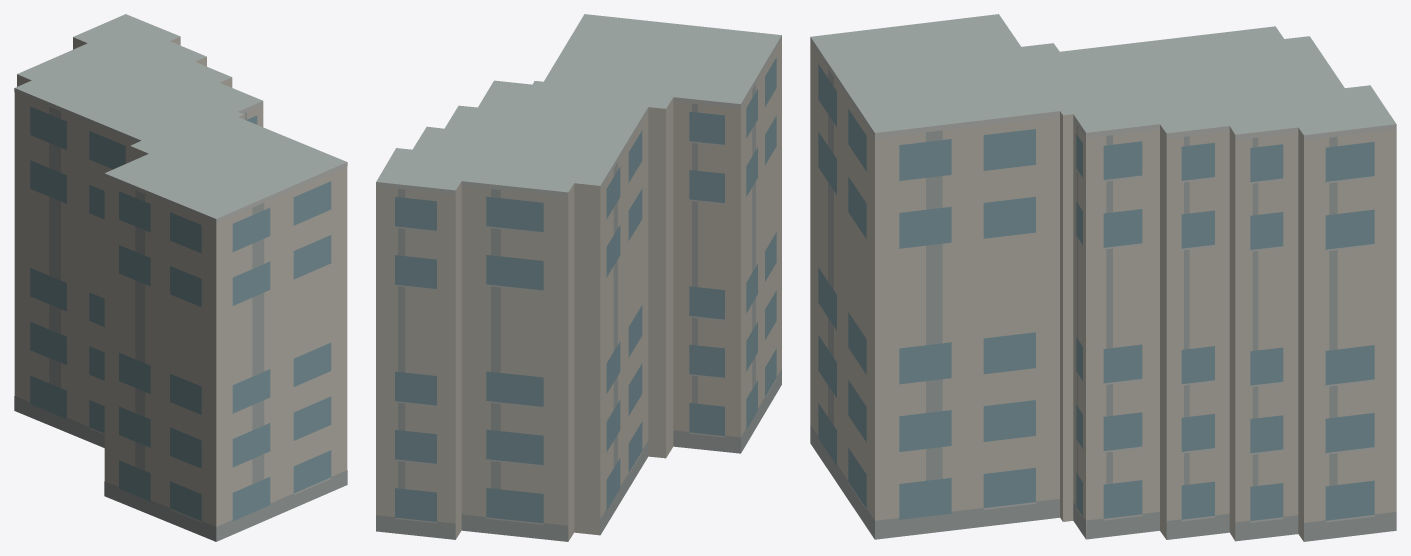
Rendered from survey-upis-32499174.glb.
3 views of the same model, side by side, from view 1: azimuth 30°, elevation 25°; view 2: azimuth 150°, elevation 25°; view 3: azimuth 270°, elevation 25° (orthographic). The views are drawn at different scales.
Parts seen in each view (by area): view 1: survey-upis-32499174.tmp; view 2: survey-upis-32499174.tmp; view 3: survey-upis-32499174.tmp.
Boxes of the visible parts, x1,y1,x2,y2 form: survey-upis-32499174.tmp: (14,14,347,541); survey-upis-32499174.tmp: (376,14,781,541); survey-upis-32499174.tmp: (810,14,1396,541).
Bounding box in the file's own units: 11.85 × 18.5 × 24.18.
